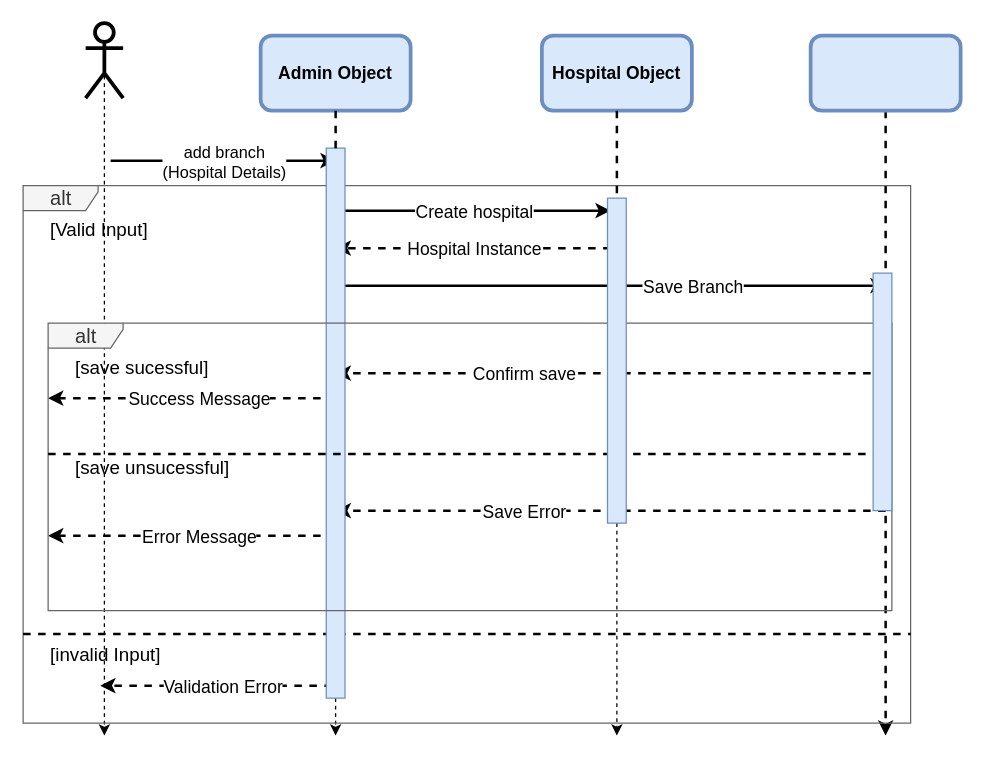
Image size: 984x769. Some labels were removed from this diagram. The shapes that lost their labels are listed below. From the top down, each one's centre as x and y in pixels, then its label:
(103,60): Adminstrator
(885,72): Database
